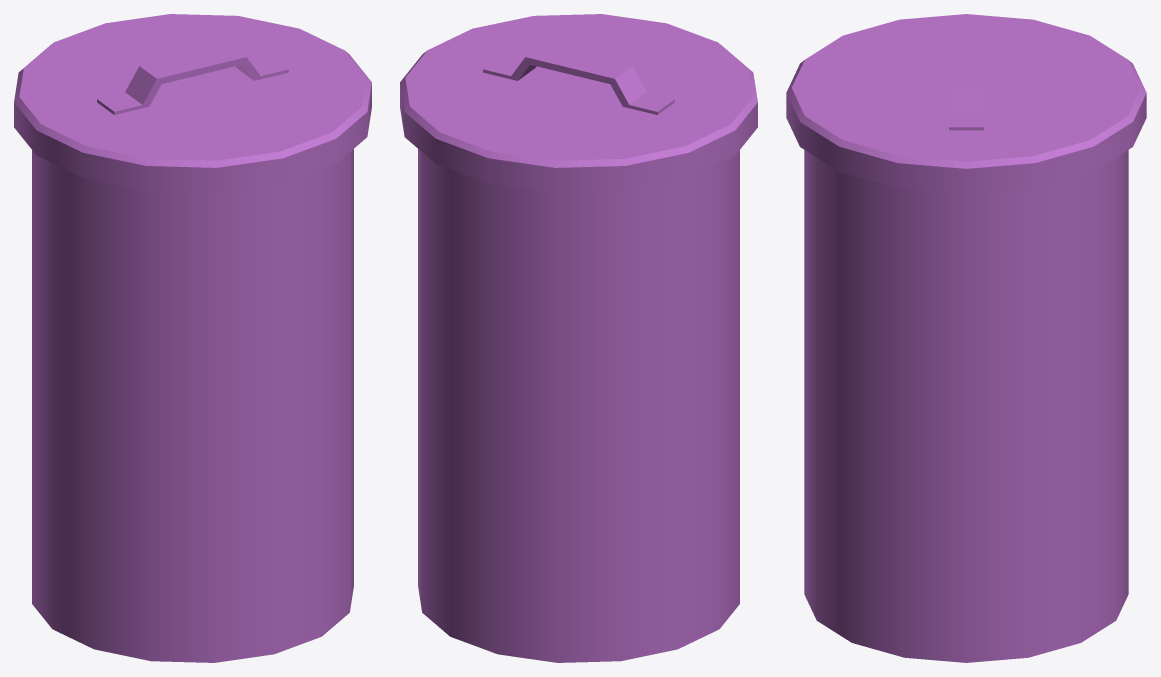
Rendered from TrashCan.fbx.
The picture shows the model from 3 angles, left to right: view 1: azimuth 30°, elevation 25°; view 2: azimuth 150°, elevation 25°; view 3: azimuth 270°, elevation 25°; orthographic projection.
Parts seen in each view (by area): view 1: TrashCan; view 2: TrashCan; view 3: TrashCan.
Part boxes in pixels (x1,y1,x2,y2): TrashCan: (14, 14, 371, 662); TrashCan: (400, 14, 757, 662); TrashCan: (786, 14, 1146, 662).
Size of the model in its own units: 59.77 by 97.42 by 59.77.
